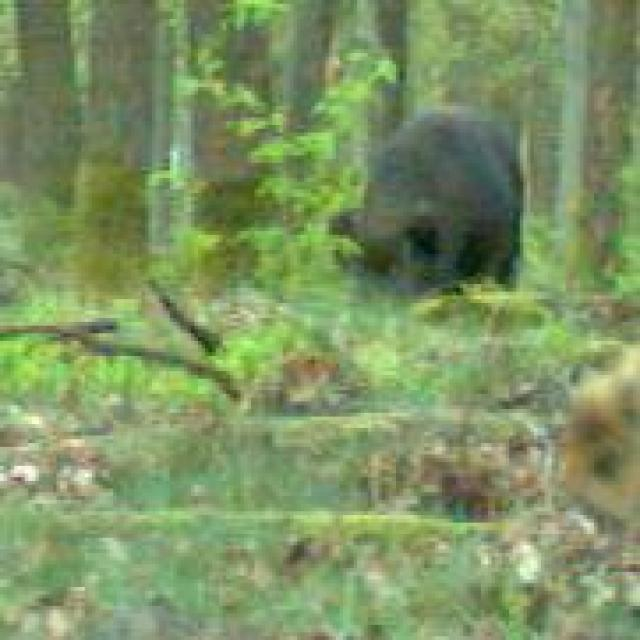pig: (341, 96, 547, 346)
